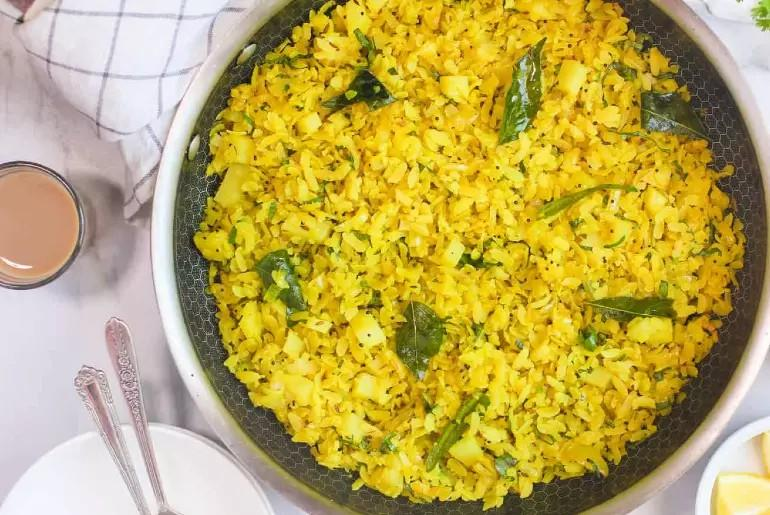Poha: (199, 0, 749, 506)
